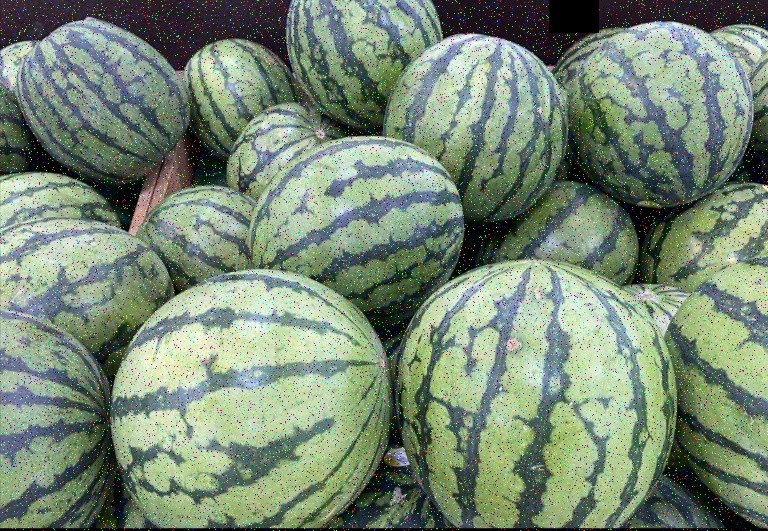watermelon: (398, 263, 677, 528), (112, 272, 394, 527), (240, 128, 467, 307), (574, 20, 758, 208), (392, 29, 564, 222), (18, 18, 189, 180), (1, 221, 180, 347)
